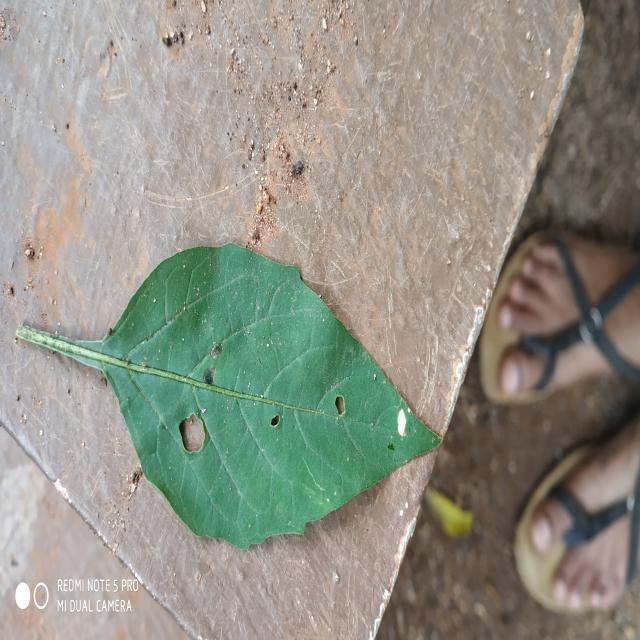ganike: (16, 244, 439, 549)
